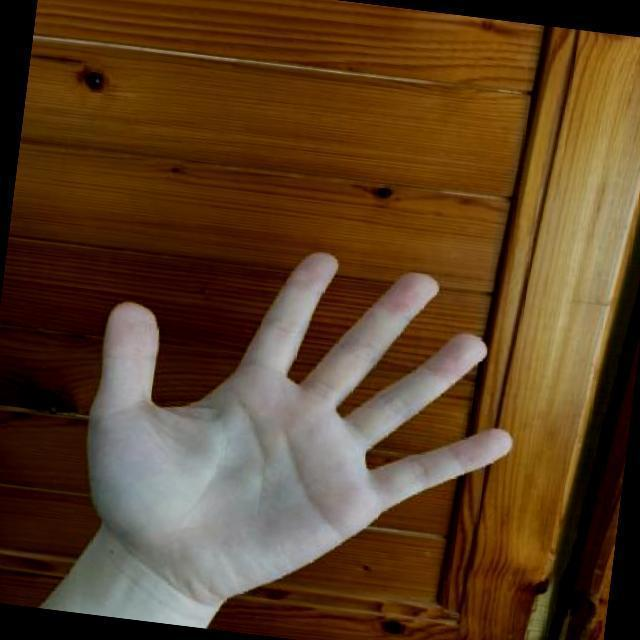hand: (40, 209, 547, 640)
